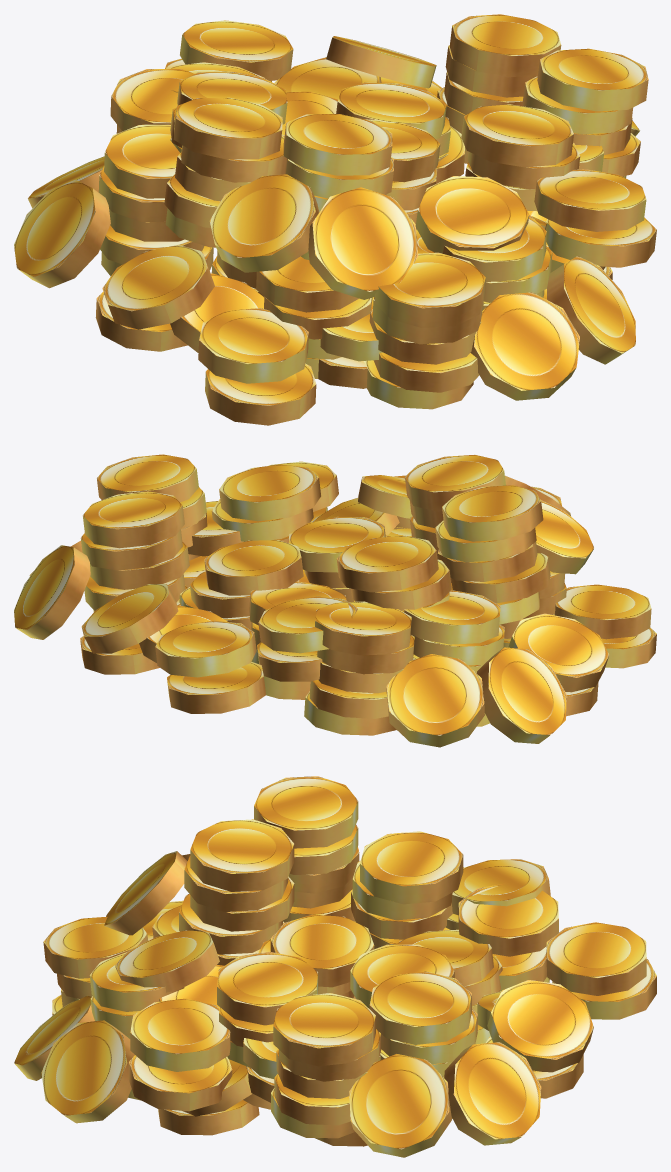
The model's file is coin5.obj.
3 views of the same model, one above another, from view 1: azimuth 30°, elevation 25°; view 2: azimuth 150°, elevation 25°; view 3: azimuth 270°, elevation 25° (orthographic). The views are drawn at different scales.
Bounding box in the file's own units: 8.23 × 2.95 × 8.29.
